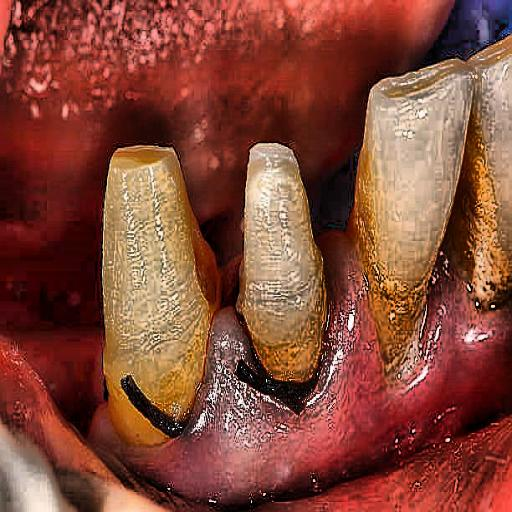Calculus: (85, 108, 512, 443)
